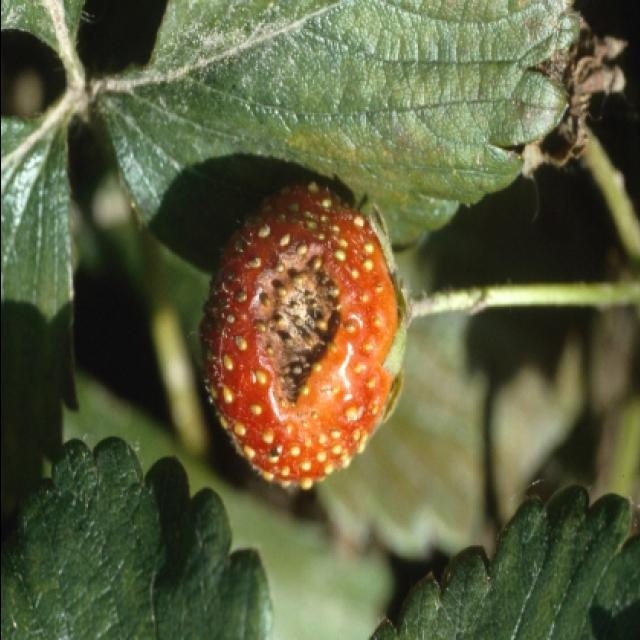Anthracnose Fruit Rot: (266, 270, 340, 387)
